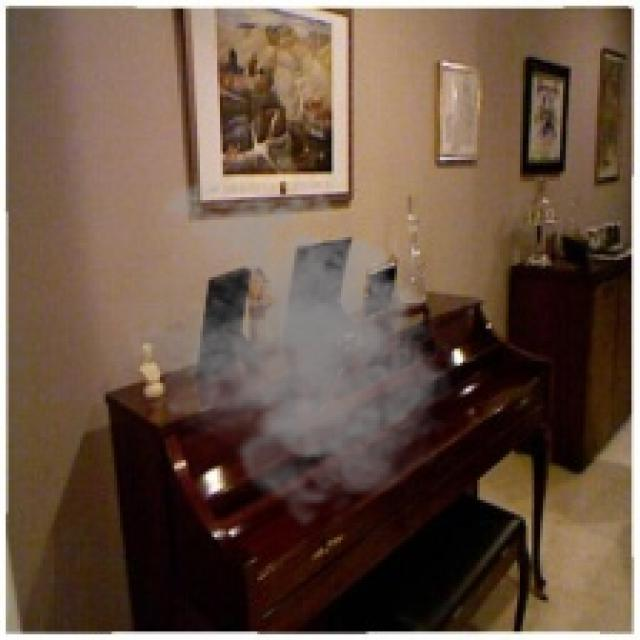smoke: (106, 172, 463, 528)
